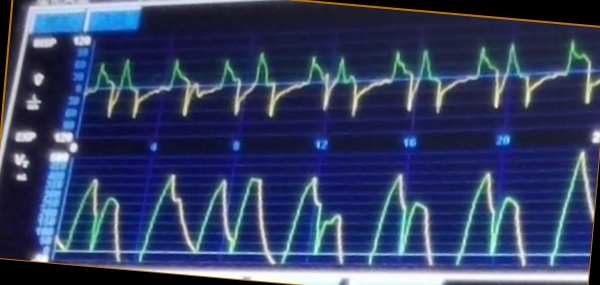Double_Triggering Flow: (95, 35, 598, 127)
Double_Triggering Volume: (71, 152, 589, 264)
